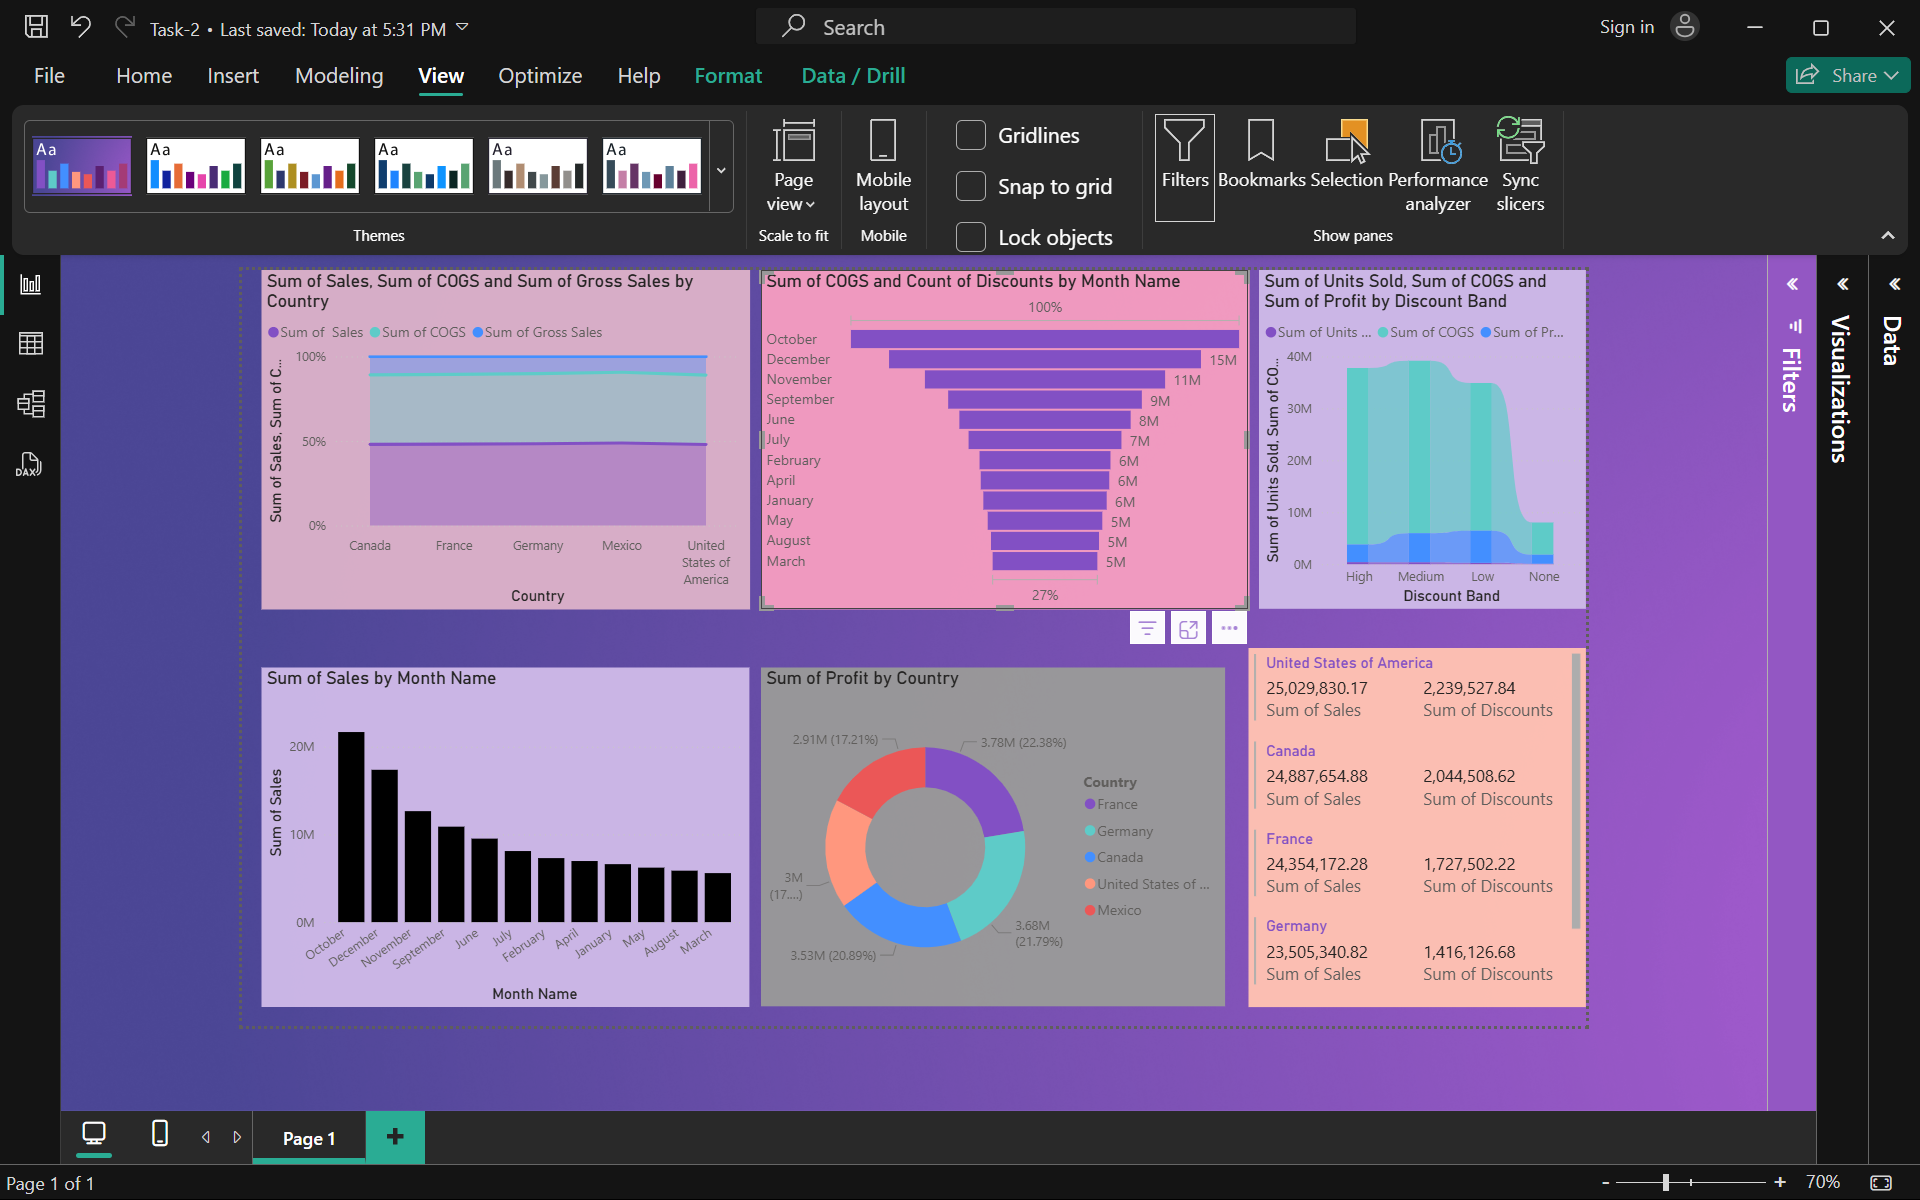

The dashboard page shown, as its layout file describes it:
{"tool":"powerbi","page":{"name":"Page 1","canvas":[1280,720],"ordinal":0},"visuals":[{"type":"clusteredColumnChart","fields":{"Y":["Sum(financials. Sales)"],"Category":["financials.Month Name"]},"box":[18.9,378,464.9,323.2],"z":0},{"type":"hundredPercentStackedAreaChart","fields":{"Category":["financials.Country"],"Y":["Sum(Sheet1. Sales)","Sum(Sheet1.COGS)","Sum(financials.Gross Sales)"]},"box":[19,0,465,323],"z":1000},{"type":"funnel","fields":{"Y":["Sum(financials.COGS)"],"Category":["financials.Month Name"]},"box":[494,0,465,323],"z":2000},{"type":"ribbonChart","fields":{"Category":["Sheet1.Discount Band"],"Y":["Sum(financials.Units Sold)","Sum(Sheet1.COGS)","Sum(financials.Profit)"]},"box":[968.6,0,311.4,322.9],"z":3000},{"type":"donutChart","fields":{"Y":["Sum(financials.Profit)"],"Category":["financials.Country"]},"box":[493.6,378.6,442.1,322.5],"z":4000},{"type":"multiRowCard","fields":{"Values":["Sum(financials. Sales)","financials.Country","Sum(financials.Discounts)"]},"box":[958.5,360.4,321,342.2],"z":5000}]}

Visuals, with their boxes on the page's 1280x720 design canvas (x1, y1, x2, y2). These are canvas units, not pixel positions in the 1920x1200 screenshot, which may show the page scaled, cropped or inside an application window:
clusteredColumnChart - Sum(financials. Sales) x financials.Month Name: pyautogui.locateOnScreen(19, 378, 484, 701)
hundredPercentStackedAreaChart - financials.Country x Sum(Sheet1. Sales): pyautogui.locateOnScreen(19, 0, 484, 323)
funnel - Sum(financials.COGS) x financials.Month Name: pyautogui.locateOnScreen(494, 0, 959, 323)
ribbonChart - Sheet1.Discount Band x Sum(financials.Units Sold): pyautogui.locateOnScreen(969, 0, 1280, 323)
donutChart - Sum(financials.Profit) x financials.Country: pyautogui.locateOnScreen(494, 379, 936, 701)
multiRowCard - Sum(financials. Sales) x financials.Country: pyautogui.locateOnScreen(958, 360, 1280, 703)
